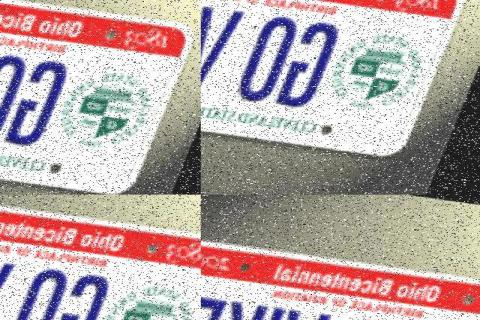LicensePlate: (200, 273, 444, 320)
